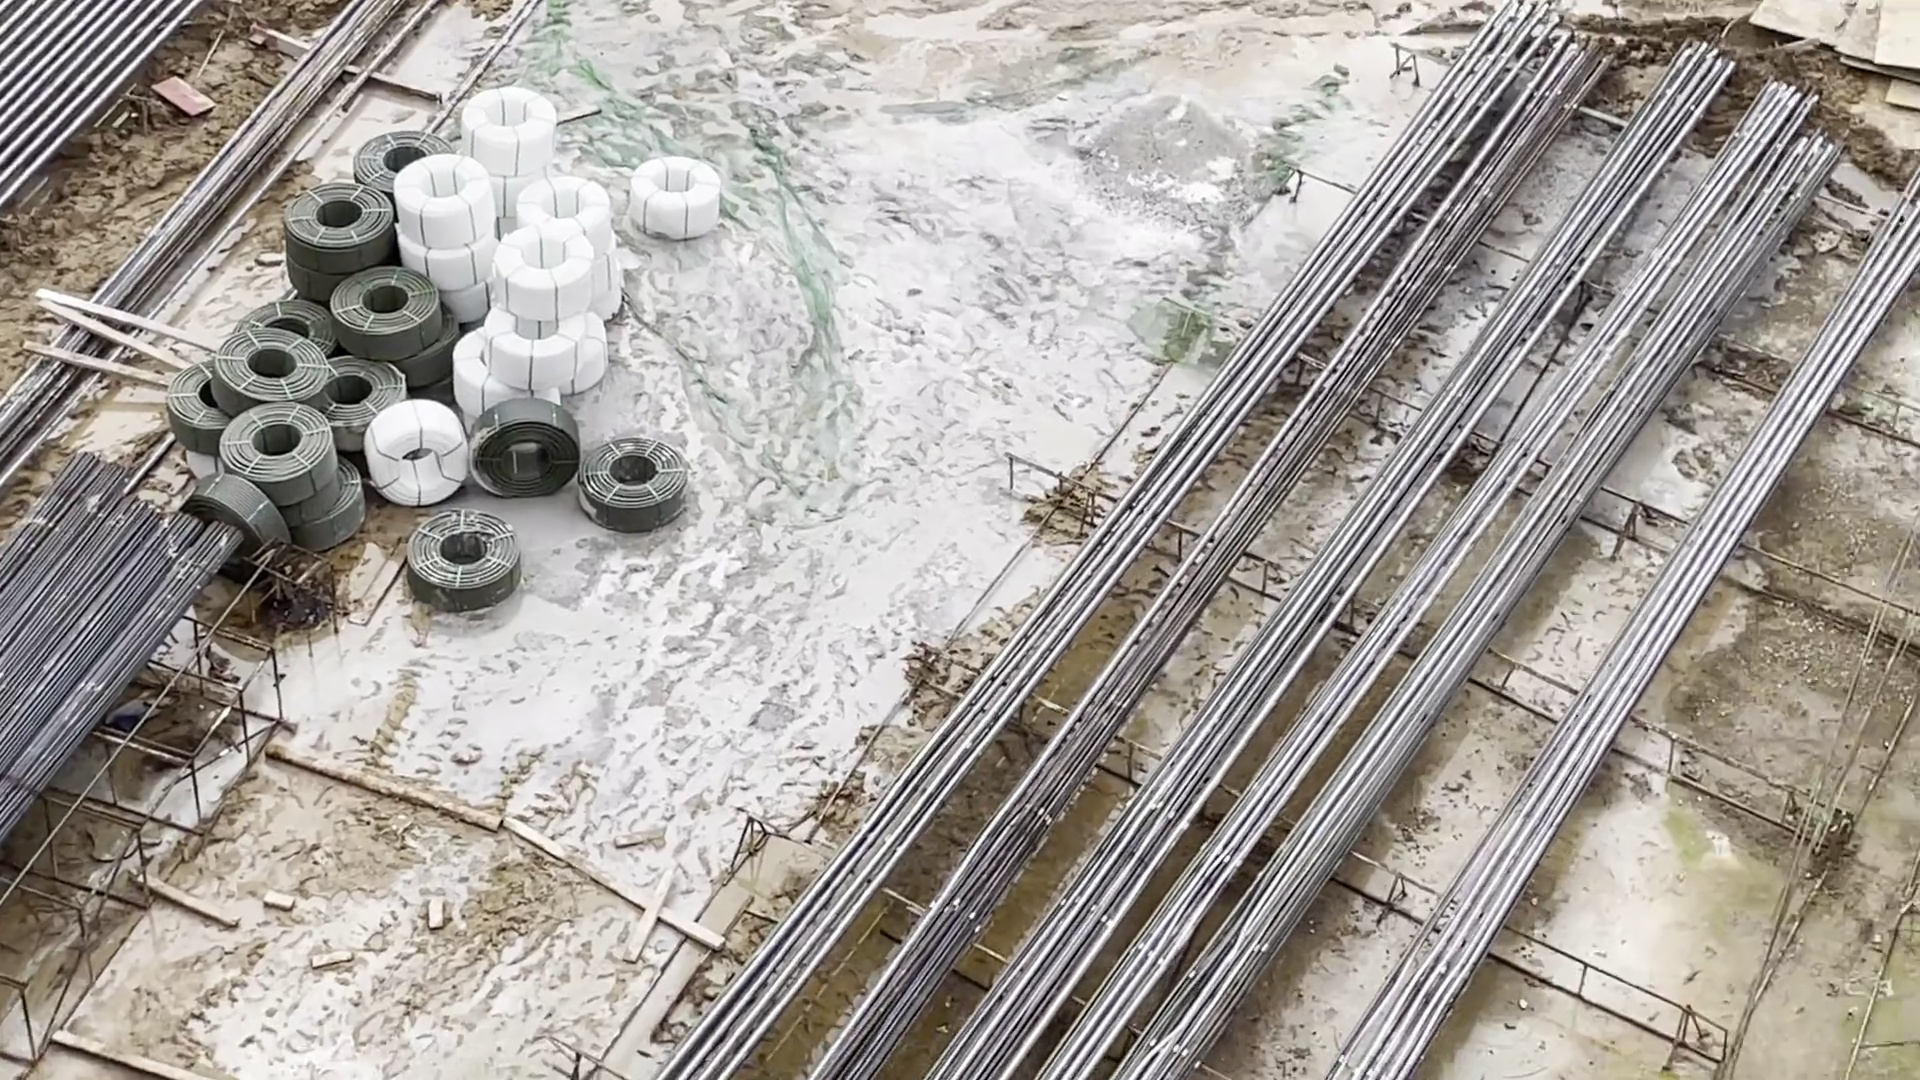rebar: (1, 446, 239, 915)
